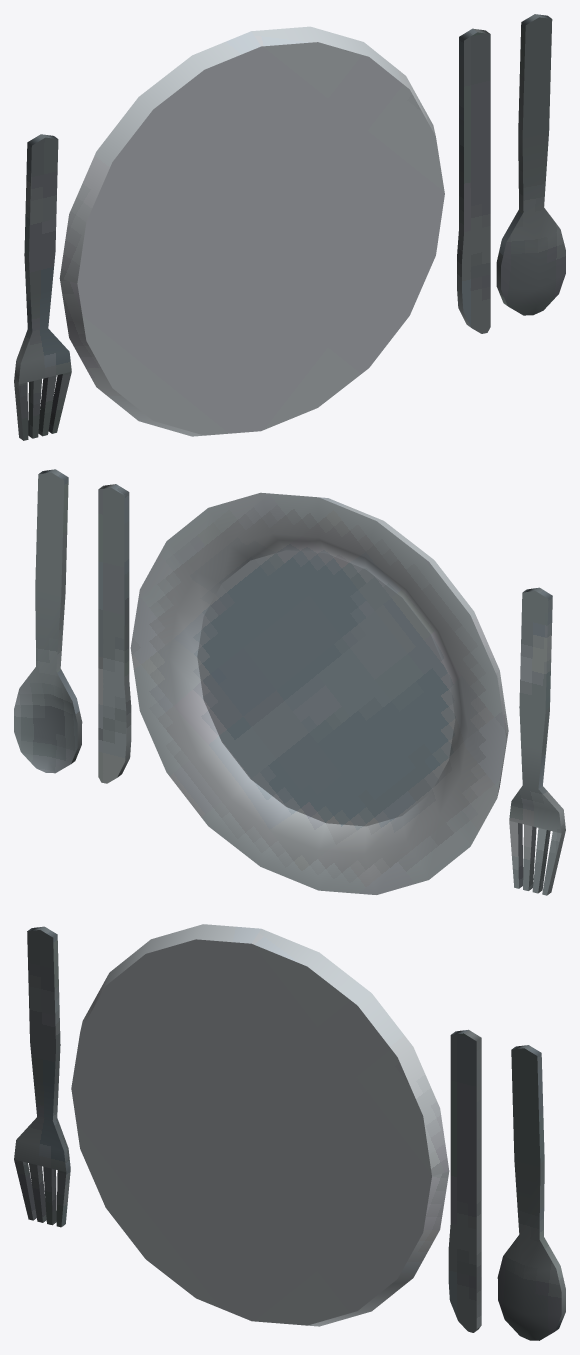
Rendered from DinnerSet.fbx.
3 views of the same model, one above another, from view 1: azimuth 30°, elevation 25°; view 2: azimuth 150°, elevation 25°; view 3: azimuth 330°, elevation 25° (orthographic).
Visible parts, largest first — view 1: DinnerSet; view 2: DinnerSet; view 3: DinnerSet.
Boxes of the visible parts, box(x1,y1,x2,y2) form: DinnerSet: box(14, 14, 565, 440); DinnerSet: box(14, 469, 565, 895); DinnerSet: box(14, 924, 565, 1340).
Bounding box in the file's own units: 106 × 73.14 × 3.34.
